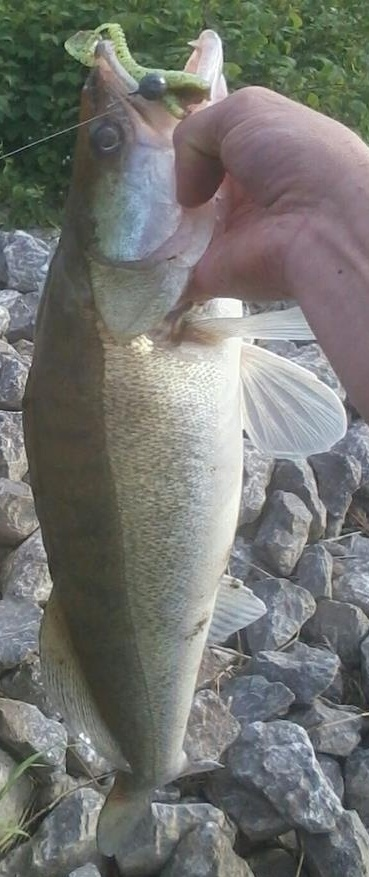Sander lucioperca: (20, 20, 349, 857)
